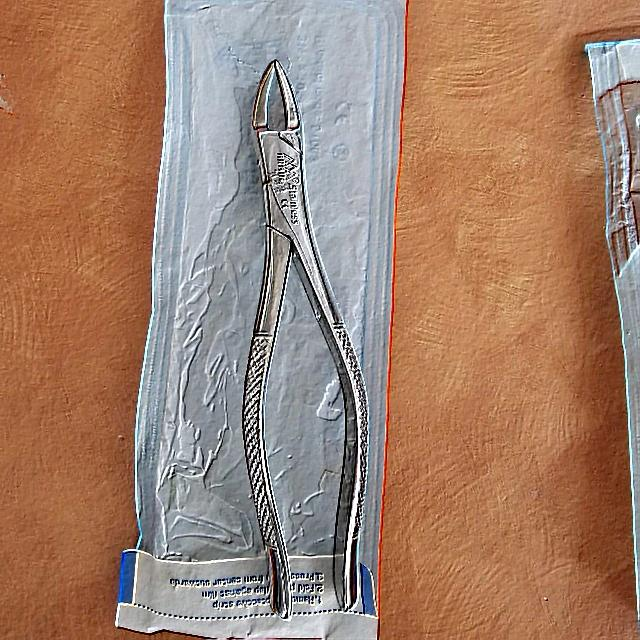forceps: (241, 61, 367, 620)
